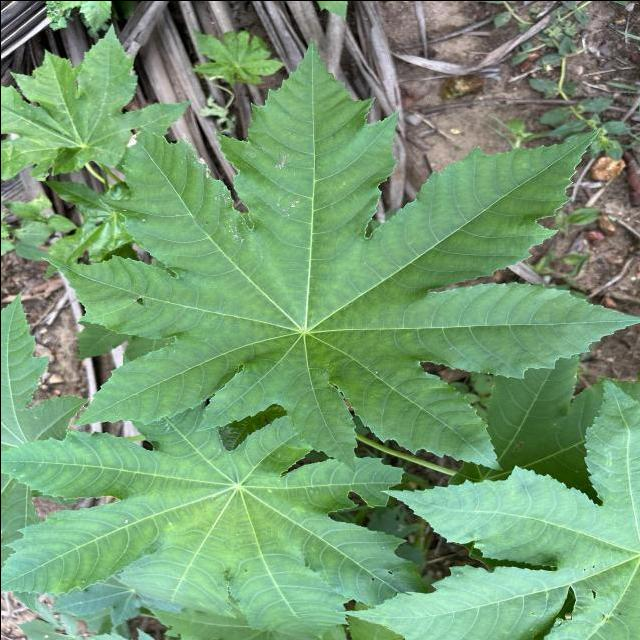Ricinus communis linn: (32, 35, 640, 475), (0, 387, 429, 640)
